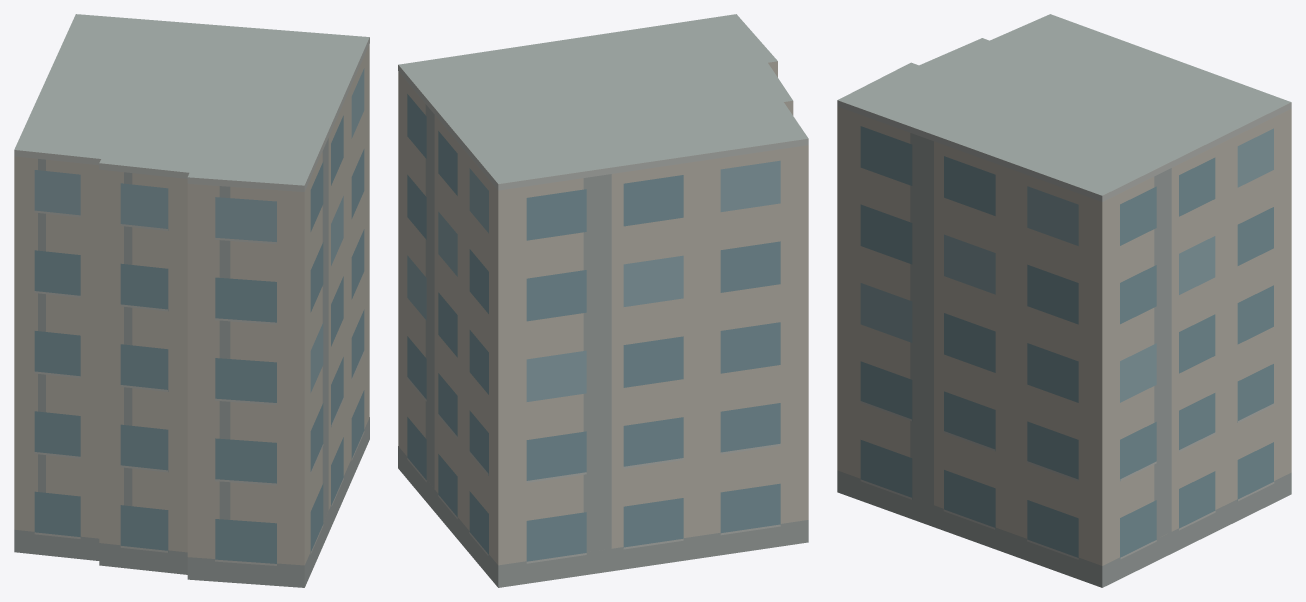
Rendered from survey-upis-32825586.glb.
3 views of the same model, side by side, from view 1: azimuth 30°, elevation 25°; view 2: azimuth 150°, elevation 25°; view 3: azimuth 270°, elevation 25° (orthographic). The views are drawn at different scales.
Parts seen in each view (by area): view 1: survey-upis-32825586.tmp; view 2: survey-upis-32825586.tmp; view 3: survey-upis-32825586.tmp.
Boxes of the visible parts, x1,y1,x2,y2 form: survey-upis-32825586.tmp: [14, 14, 369, 587]; survey-upis-32825586.tmp: [398, 14, 808, 587]; survey-upis-32825586.tmp: [837, 14, 1291, 587].
Bounding box in the file's own units: 15.17 × 15.25 × 16.02.
